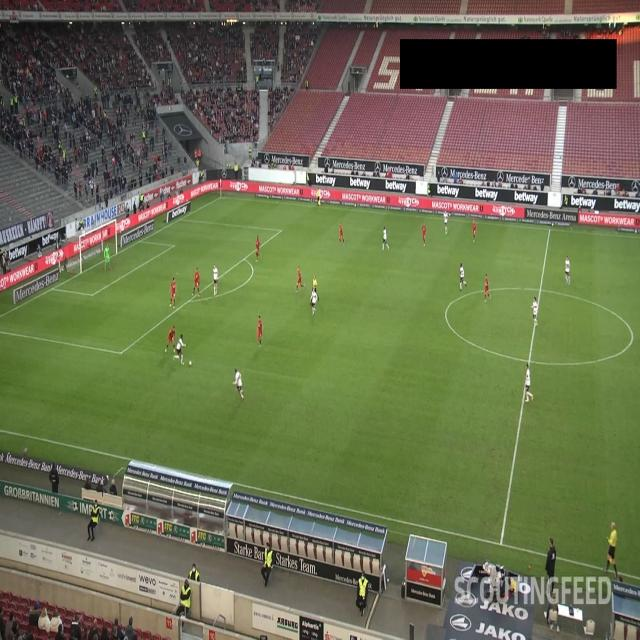ball: (188, 358, 194, 371)
f_player: (166, 326, 184, 364), (523, 360, 538, 404), (232, 368, 246, 402), (165, 328, 177, 360), (255, 316, 267, 348), (308, 284, 319, 318), (102, 242, 115, 270), (442, 208, 452, 240), (211, 265, 220, 296), (482, 276, 492, 303), (169, 278, 178, 308), (531, 296, 540, 323), (254, 236, 264, 260), (563, 256, 571, 286), (296, 267, 305, 293), (460, 263, 468, 289), (194, 268, 202, 294), (380, 227, 389, 250), (420, 224, 428, 248), (338, 224, 346, 245), (472, 221, 478, 243)
umpire: (606, 521, 620, 579), (316, 190, 324, 209)
